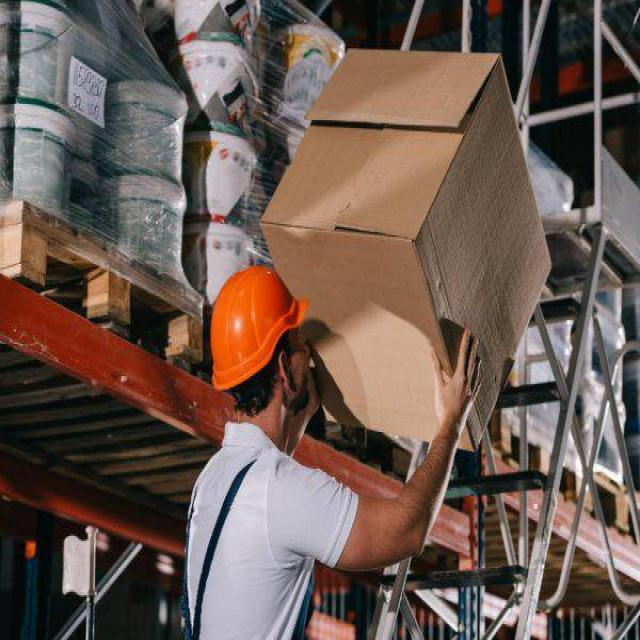box: (254, 36, 554, 456)
